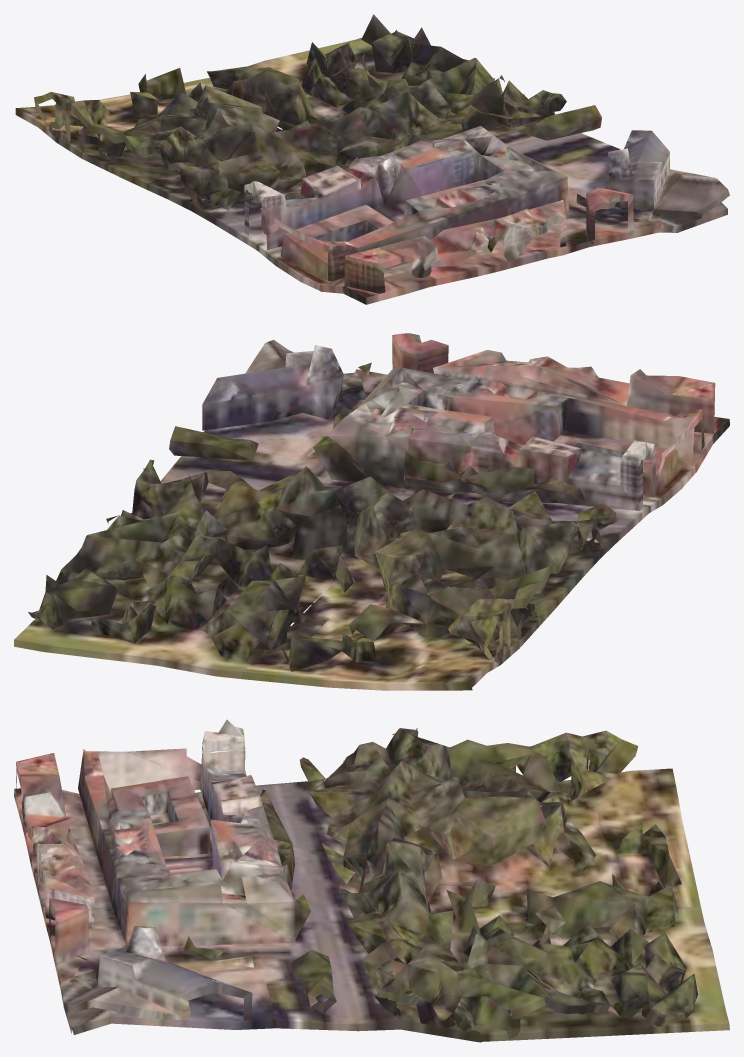
The picture shows the model from 3 angles, top to bottom: view 1: azimuth 30°, elevation 25°; view 2: azimuth 150°, elevation 25°; view 3: azimuth 270°, elevation 25°; orthographic projection. The views are drawn at different scales.
Visible parts, largest first — view 1: Mesh_0; view 2: Mesh_0; view 3: Mesh_0.
Boxes of the visible parts, x1=… form: Mesh_0: x1=15, y1=14, x2=729, y2=304; Mesh_0: x1=14, y1=333, x2=729, y2=690; Mesh_0: x1=14, y1=719, x2=729, y2=1042.
Bounding box in the file's own units: 269 × 60.89 × 330.
Materials: 2 (2 with a texture image).
